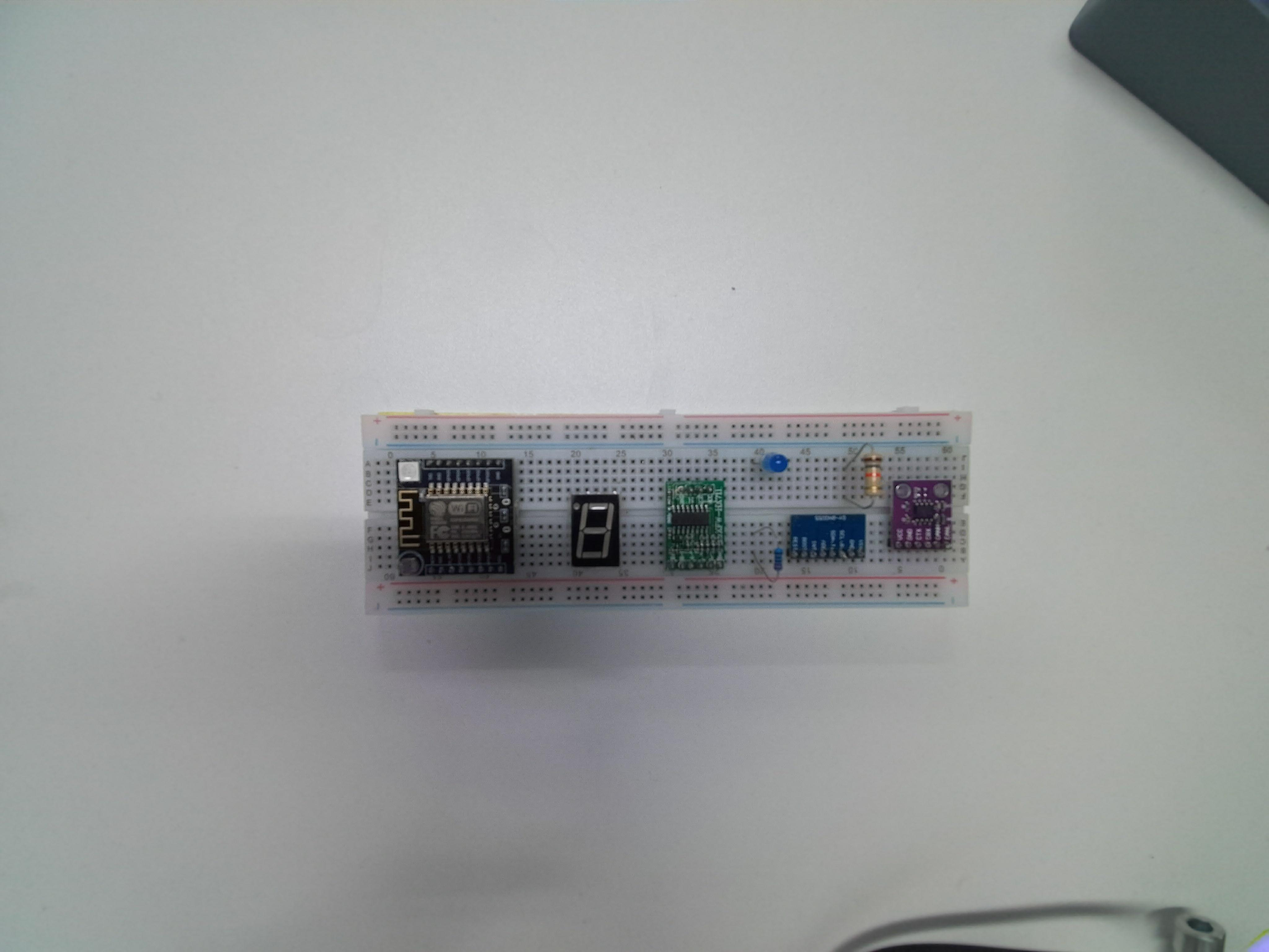base: (357, 412, 973, 619)
blue-board: (787, 511, 867, 563)
blue-led: (762, 453, 787, 473), (762, 454, 787, 473)
digit-board: (568, 491, 623, 567)
esp: (393, 454, 520, 582), (663, 478, 729, 575)
green-board: (663, 477, 728, 574)
purple-board: (888, 476, 954, 553)
resistor-big: (863, 451, 886, 498)
resistor-small: (772, 547, 783, 571)
